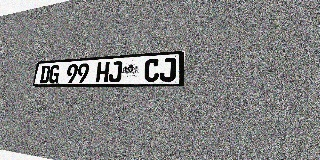plate: (32, 51, 185, 87)
